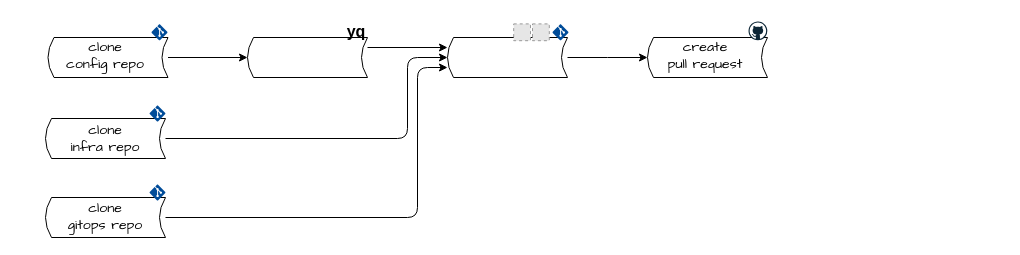
Some shapes in this 1020 by 255 pixel diagram are drawn without their labels. Grey dashed boxes stand in for pictures. Here are the shapes that lost their labels. From the top down, the centre of each, then its label:
[307,57]: resolve props
[507,57]: create config
